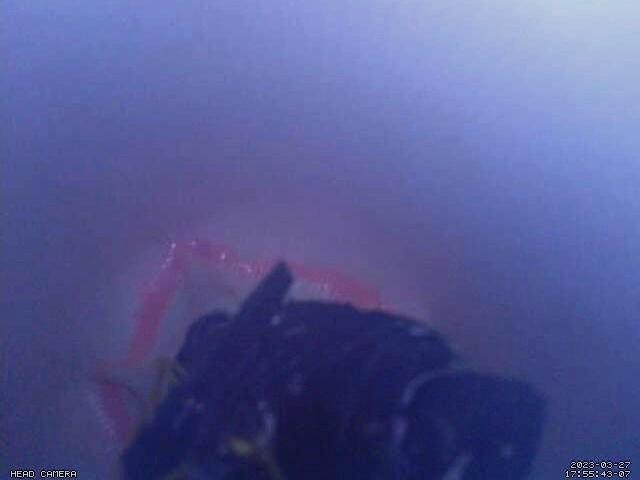head: (90, 234, 394, 449)
